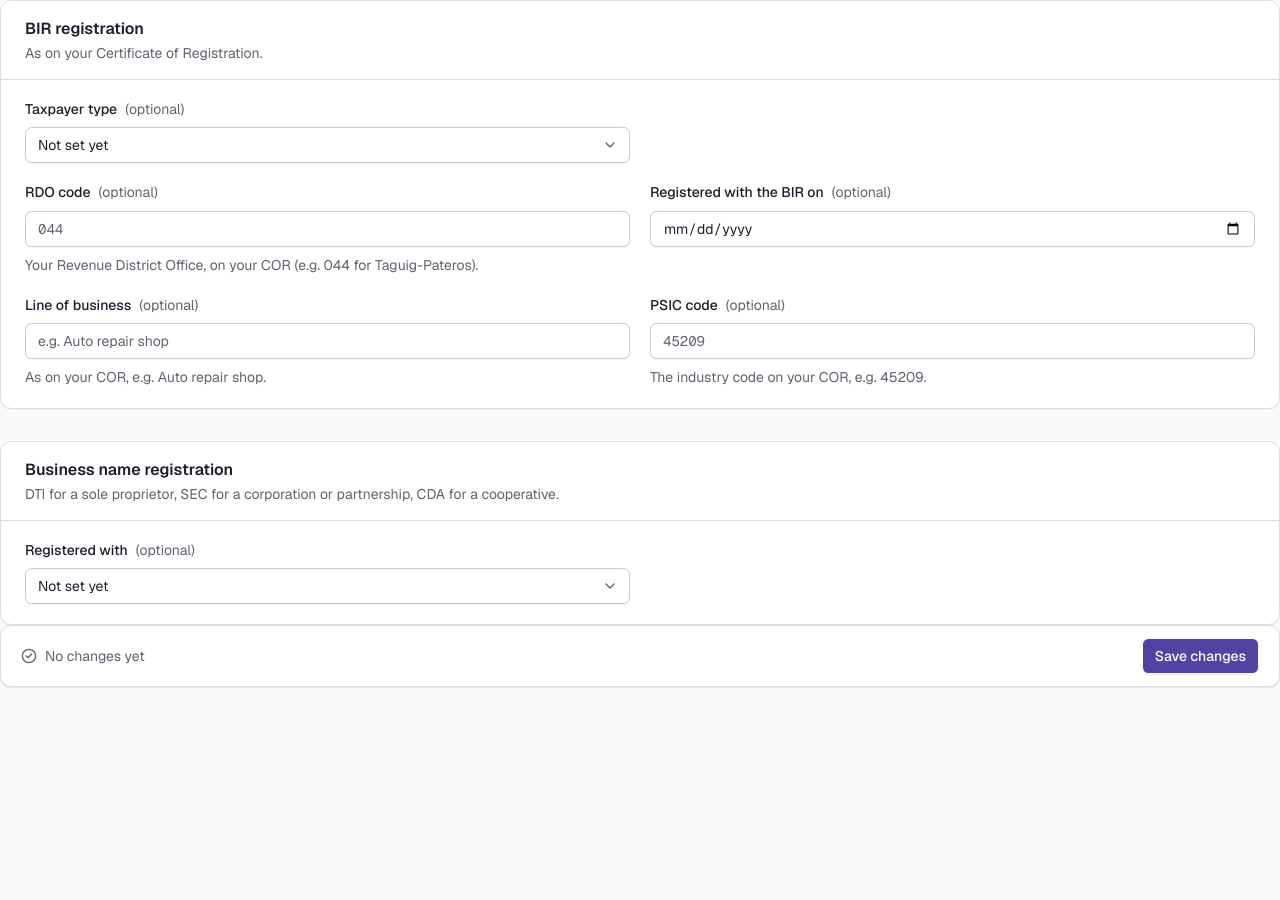
Test: the registration form's save bar › says changes are unsaved once a field is edited
Check: the message reads "No changes yet", box [45,647,145,665]
Type "Auto repair" into the field labelled "Line of business (optional)".
click(328, 341); type("Auto repair")  # box [25,323,630,359]
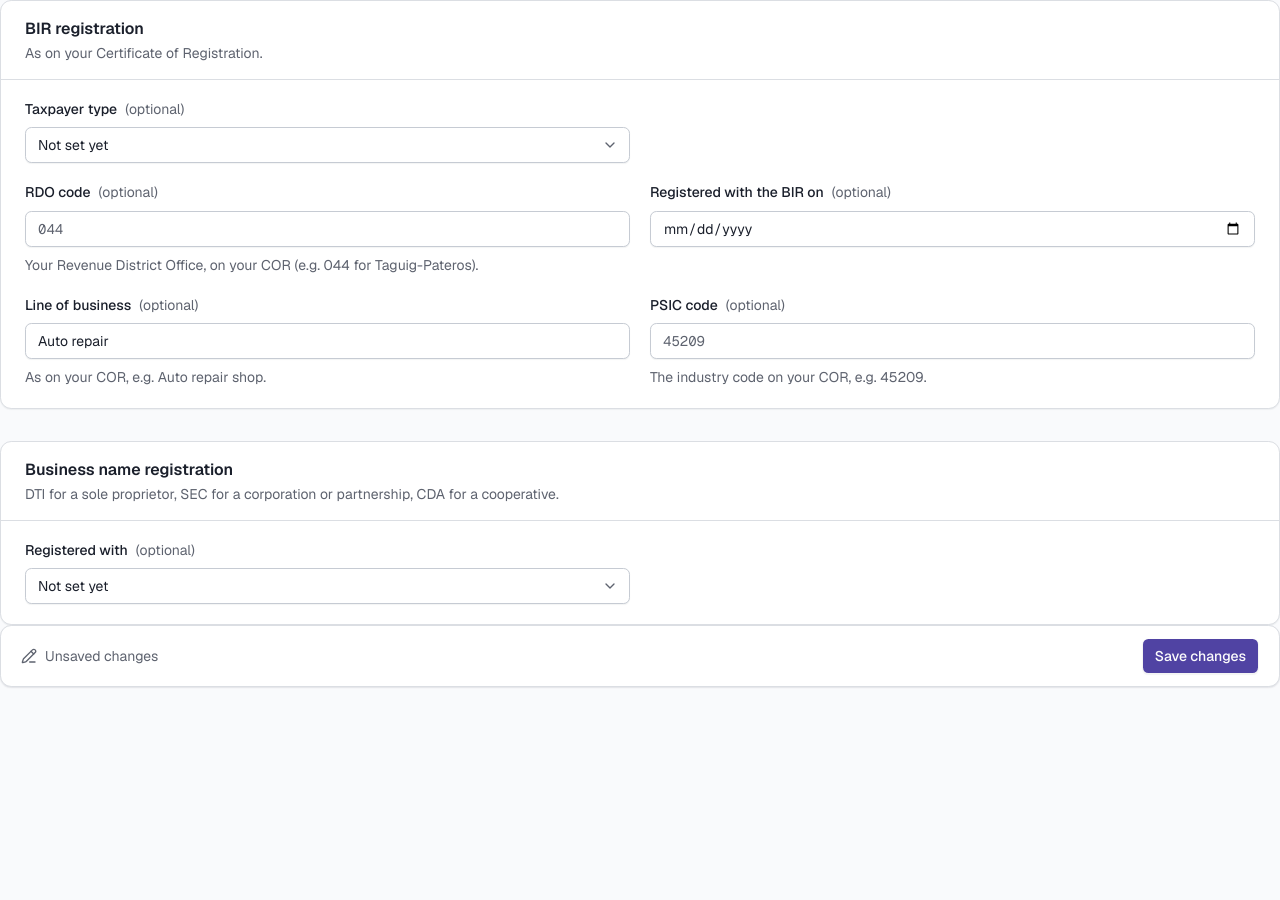
Check: the message reads "Unsaved changes", box [45,647,158,665]
